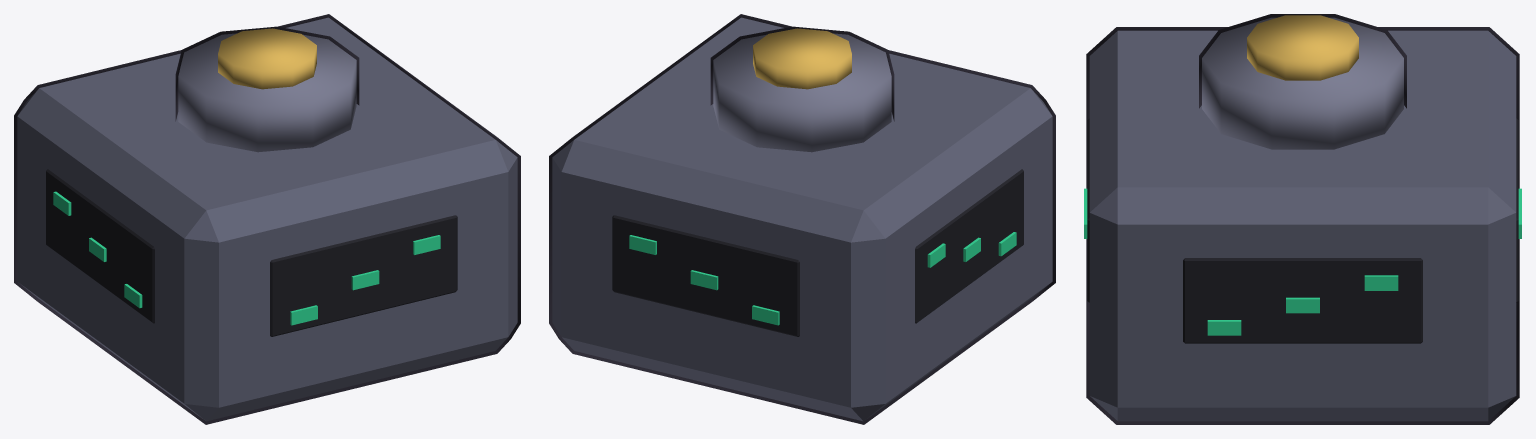
Rendered from machine.glb.
3 renders of one model, left to right at view 1: azimuth 30°, elevation 25°; view 2: azimuth 150°, elevation 25°; view 3: azimuth 270°, elevation 25°, orthographic. The views are drawn at different scales.
Visible parts, largest first — view 1: machine; view 2: machine; view 3: machine.
Part boxes in pixels (x1,y1,x2,y2): machine: (14,14,520,424); machine: (549,14,1055,424); machine: (1084,14,1521,424).
Bounding box in the file's own units: 3.9 × 3.03 × 3.9.
